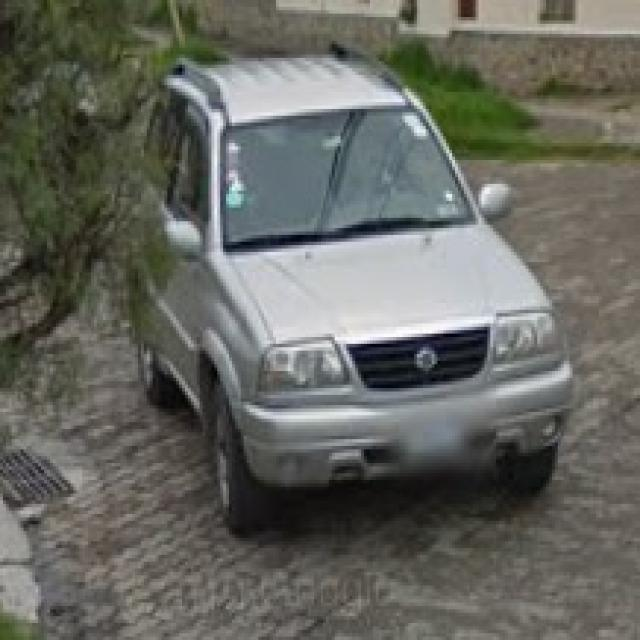cars: (108, 66, 577, 542)
